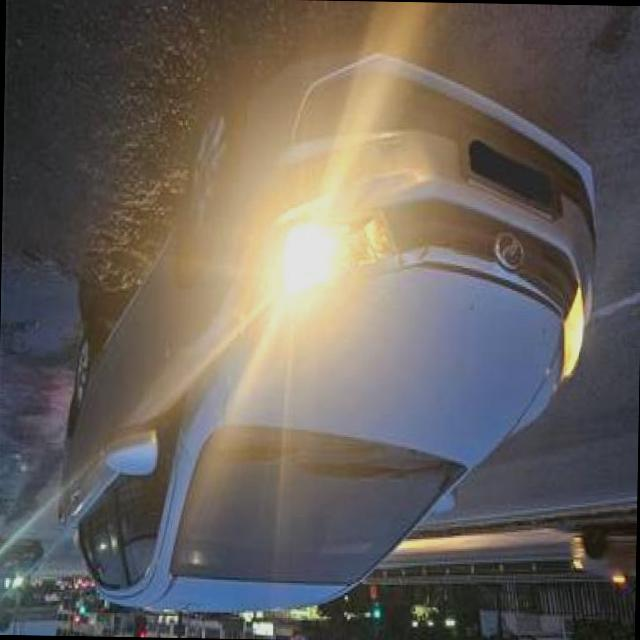PeroduaBezza: (54, 48, 602, 622)
